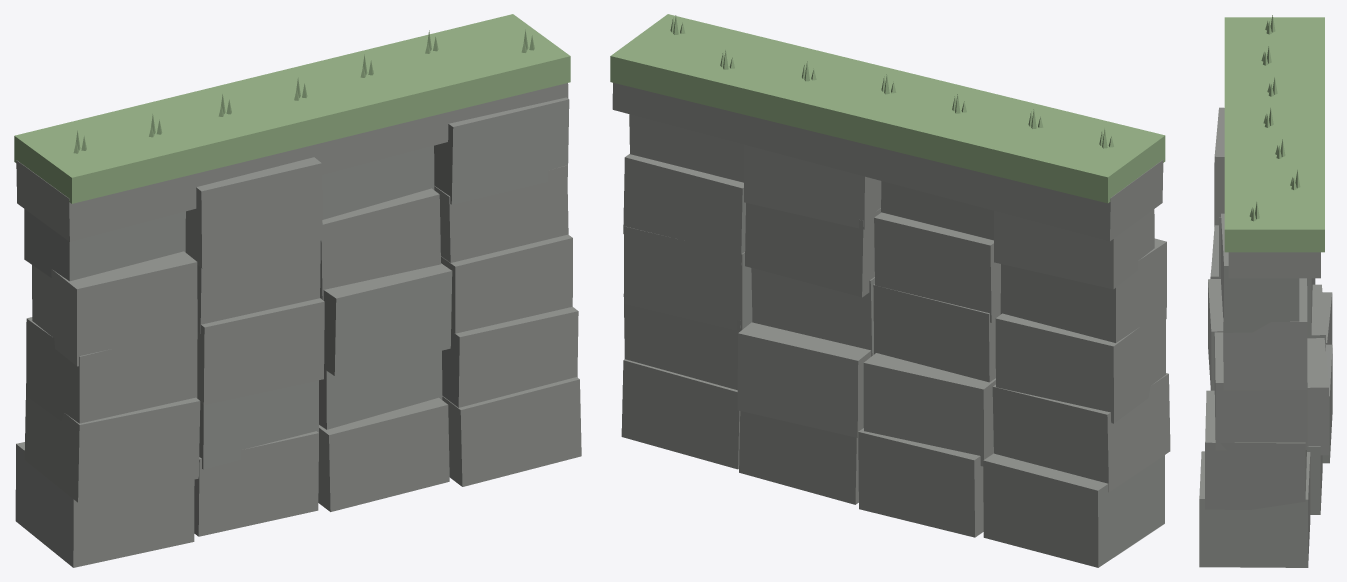
Rendered from lighthouse-and-rocky-coast-cliff-face-module-7c597253__36609.glb.
3 renders of one model, left to right at view 1: azimuth 30°, elevation 25°; view 2: azimuth 150°, elevation 25°; view 3: azimuth 270°, elevation 25°, orthographic. The views are drawn at different scales.
Visible parts, largest first — view 1: cliff-face-module; view 2: cliff-face-module; view 3: cliff-face-module.
Part boxes in pixels (x1,y1,x2,y2): cliff-face-module: (14,14,581,567); cliff-face-module: (610,14,1170,567); cliff-face-module: (1199,15,1332,567).
Size of the model in its own units: 6.01 by 4.73 by 1.59.
